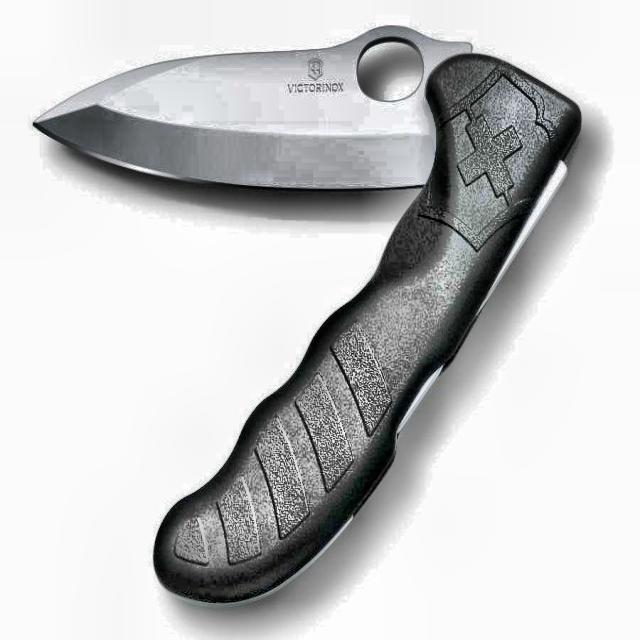knife: (34, 27, 582, 607)
